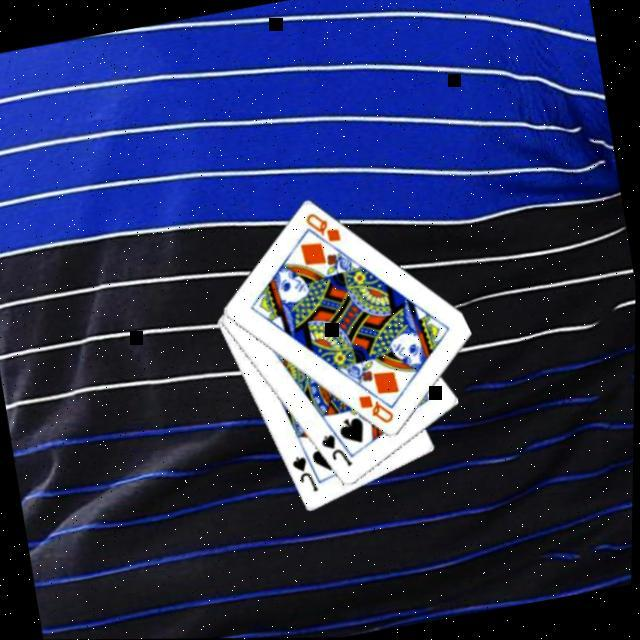JS: (318, 427, 358, 472), (288, 449, 324, 496)
QD: (355, 386, 400, 430), (302, 204, 346, 248)
